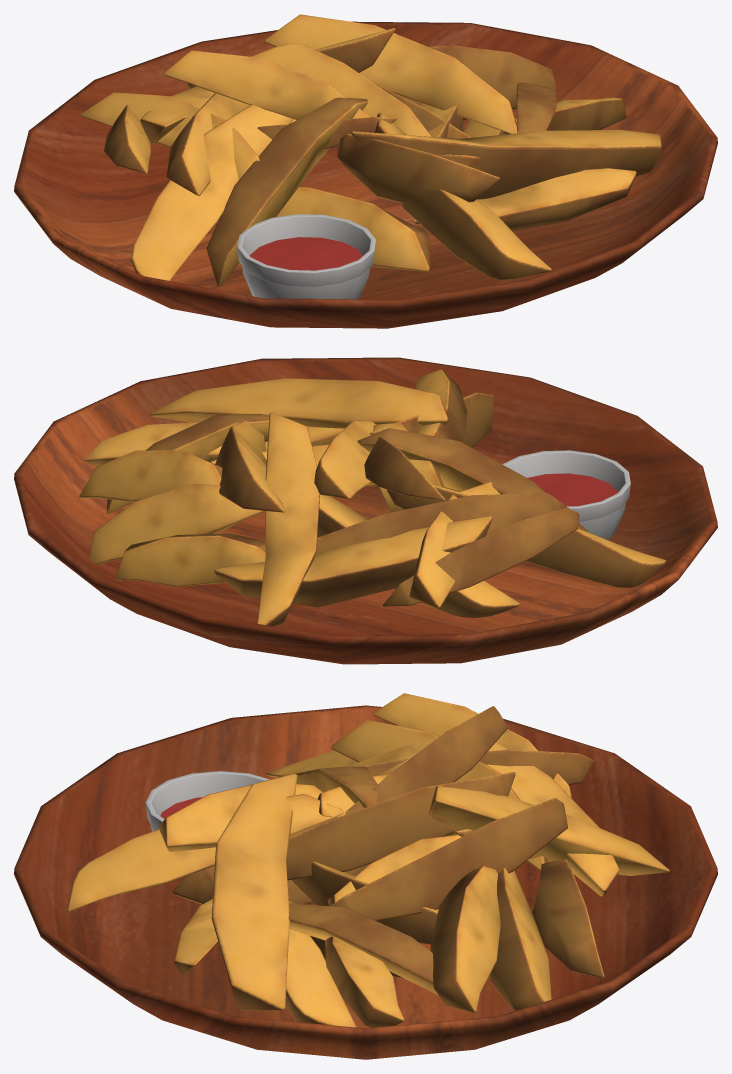
The model's file is FrenchFries_B.fbx.
3 renders of one model, top to bottom at view 1: azimuth 30°, elevation 25°; view 2: azimuth 150°, elevation 25°; view 3: azimuth 270°, elevation 25°, orthographic. The views are drawn at different scales.
Parts seen in each view (by area): view 1: FrenchFries_B; view 2: FrenchFries_B; view 3: FrenchFries_B.
Part boxes in pixels (left/top/right/bottom): FrenchFries_B: left=14, top=14, right=717, bottom=328; FrenchFries_B: left=14, top=357, right=717, bottom=664; FrenchFries_B: left=14, top=693, right=717, bottom=1059.
Size of the model in its own units: 0.443 by 0.1064 by 0.4039.
